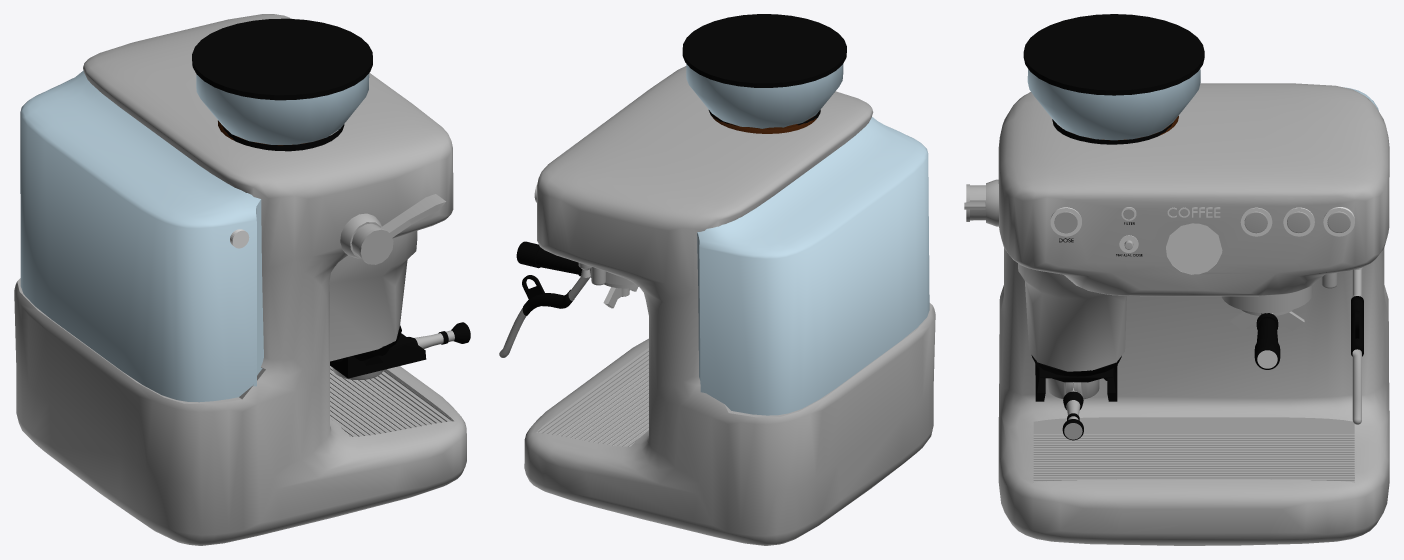
Rendered from Barista.fbx.
The picture shows the model from 3 angles, left to right: view 1: azimuth 30°, elevation 25°; view 2: azimuth 150°, elevation 25°; view 3: azimuth 270°, elevation 25°; orthographic projection. The views are drawn at different scales.
Parts seen in each view (by area): view 1: Cube, Cube.003, Cylinder.022, Cylinder, Cylinder.020, Cube.004, Cylinder.021, Sphere, Cube.008, Cylinder.001; view 2: Cube, Cube.003, Cylinder.022, Cube.004, Cylinder.020, Cube.008, Cylinder.006, BezierCurve.001, BezierCurve; view 3: Cube, Cube.004, Cylinder.022, Cylinder, Cylinder.020, Cube.008, Cylinder.024, Sphere, Cylinder.003, Cylinder.021, Cylinder.001, Cylinder.010 (+4 smaller).
Boxes of the visible parts, bbox=[...] form: Cube: bbox=[14, 14, 466, 545]; Cube.003: bbox=[20, 70, 263, 402]; Cylinder.022: bbox=[192, 18, 372, 151]; Cylinder: bbox=[329, 231, 417, 361]; Cylinder.020: bbox=[196, 73, 369, 144]; Cube.004: bbox=[330, 366, 451, 436]; Cylinder.021: bbox=[340, 194, 446, 264]; Sphere: bbox=[330, 325, 426, 378]; Cube.008: bbox=[330, 369, 453, 436]; Cylinder.001: bbox=[332, 330, 454, 379]; Cube: bbox=[524, 66, 935, 545]; Cube.003: bbox=[697, 117, 929, 415]; Cylinder.022: bbox=[682, 14, 846, 125]; Cube.004: bbox=[538, 350, 648, 446]; Cylinder.020: bbox=[686, 64, 843, 128]; Cube.008: bbox=[536, 348, 648, 446]; Cylinder.006: bbox=[516, 241, 582, 276]; BezierCurve.001: bbox=[522, 289, 574, 315]; BezierCurve: bbox=[499, 276, 590, 357]; Cube: bbox=[998, 83, 1389, 545]; Cube.004: bbox=[1033, 434, 1354, 482]; Cylinder.022: bbox=[1023, 14, 1204, 144]; Cylinder: bbox=[1018, 263, 1126, 371]; Cylinder.020: bbox=[1027, 69, 1200, 140]; Cube.008: bbox=[1033, 417, 1354, 481]; Cylinder.024: bbox=[1166, 223, 1222, 274]; Sphere: bbox=[1031, 355, 1121, 401]; Cylinder.003: bbox=[1221, 286, 1312, 313]; Cylinder.021: bbox=[964, 179, 998, 226]; Cylinder.001: bbox=[1047, 378, 1099, 439]; Cylinder.010: bbox=[1240, 207, 1354, 236].
Bounding box in the file's own units: 207 × 244 × 218.
